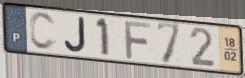1: (94, 17, 113, 58)
2: (188, 26, 217, 68)
7: (155, 20, 183, 67)
C: (28, 10, 58, 52)
F: (122, 18, 152, 61)
J: (62, 15, 88, 54)
